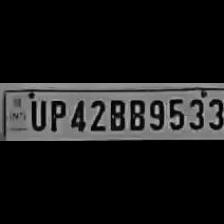2: (86, 96, 106, 132)
3: (186, 96, 204, 130), (205, 96, 221, 130)
4: (67, 97, 87, 131)
5: (166, 96, 184, 130)
9: (146, 96, 164, 130)
B: (105, 96, 124, 132), (127, 96, 144, 132)
P: (45, 97, 65, 132)
U: (27, 97, 46, 131)
